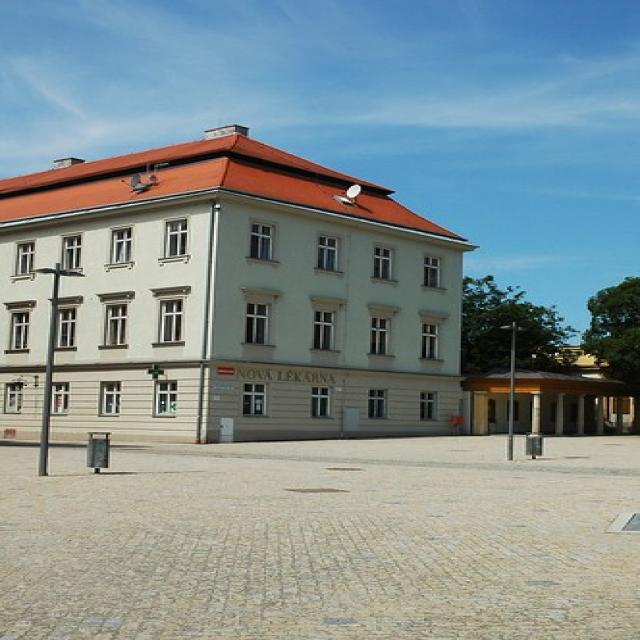Normal_building: (2, 123, 484, 445)
